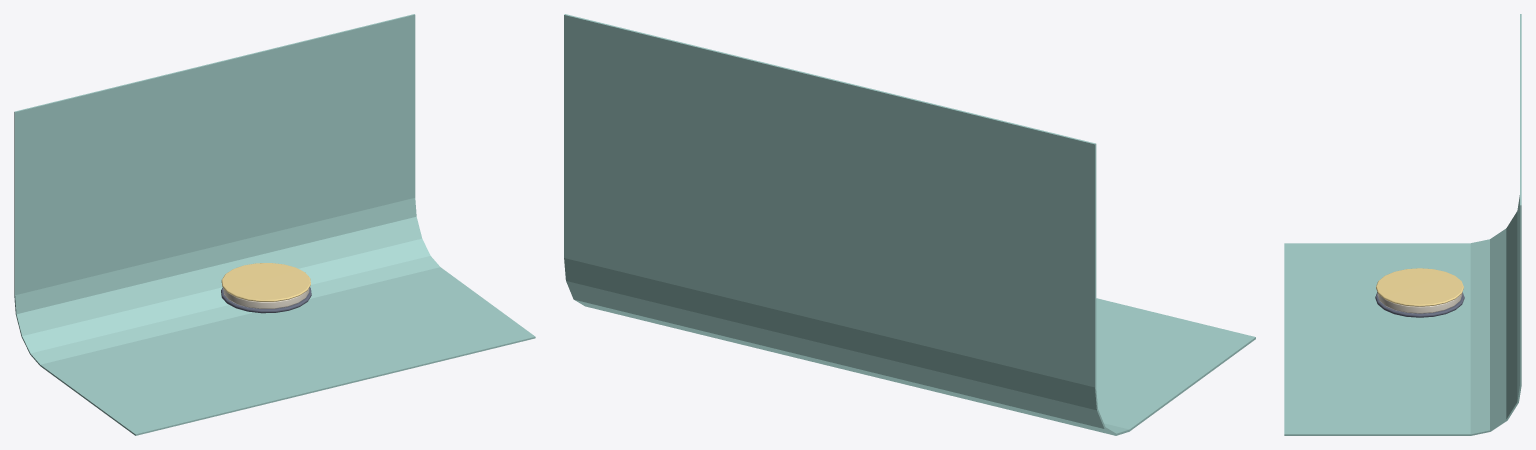
File: ExhibitStage.fbx
3 renders of one model, left to right at view 1: azimuth 30°, elevation 25°; view 2: azimuth 150°, elevation 25°; view 3: azimuth 270°, elevation 25°, orthographic. The views are drawn at different scales.
Parts seen in each view (by area): view 1: Teal studio sweep, Pedestal lip, Pedestal body; view 2: Teal studio sweep; view 3: Teal studio sweep, Pedestal lip, Pedestal body, Pedestal foot.
Part boxes in pixels (x1,y1,x2,y2): Teal studio sweep: (14,14,535,435); Pedestal lip: (221,263,310,301); Pedestal body: (223,288,309,308); Teal studio sweep: (564,14,1255,435); Teal studio sweep: (1284,14,1521,435); Pedestal lip: (1376,268,1463,306); Pedestal body: (1377,293,1462,313); Pedestal foot: (1375,292,1464,317).
Size of the model in its own units: 800 by 420 by 450.
